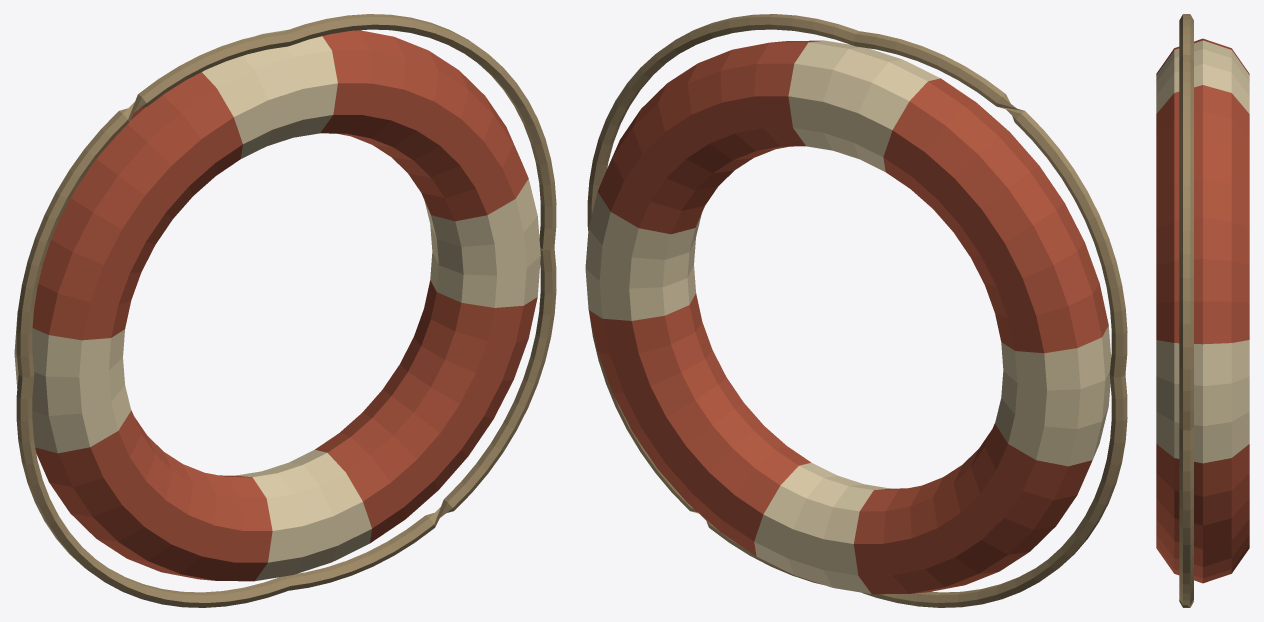
The model's file is life_ring.glb.
3 views of the same model, side by side, from view 1: azimuth 30°, elevation 25°; view 2: azimuth 150°, elevation 25°; view 3: azimuth 270°, elevation 25° (orthographic). The views are drawn at different scales.
Visible parts, largest first — view 1: life_ring; view 2: life_ring; view 3: life_ring.
Boxes of the visible parts, x1,y1,x2,y2 form: life_ring: (14,14,556,607); life_ring: (585,14,1127,607); life_ring: (1156,14,1249,607).
Size of the model in its own units: 0.6285 by 0.6285 by 0.1027.
